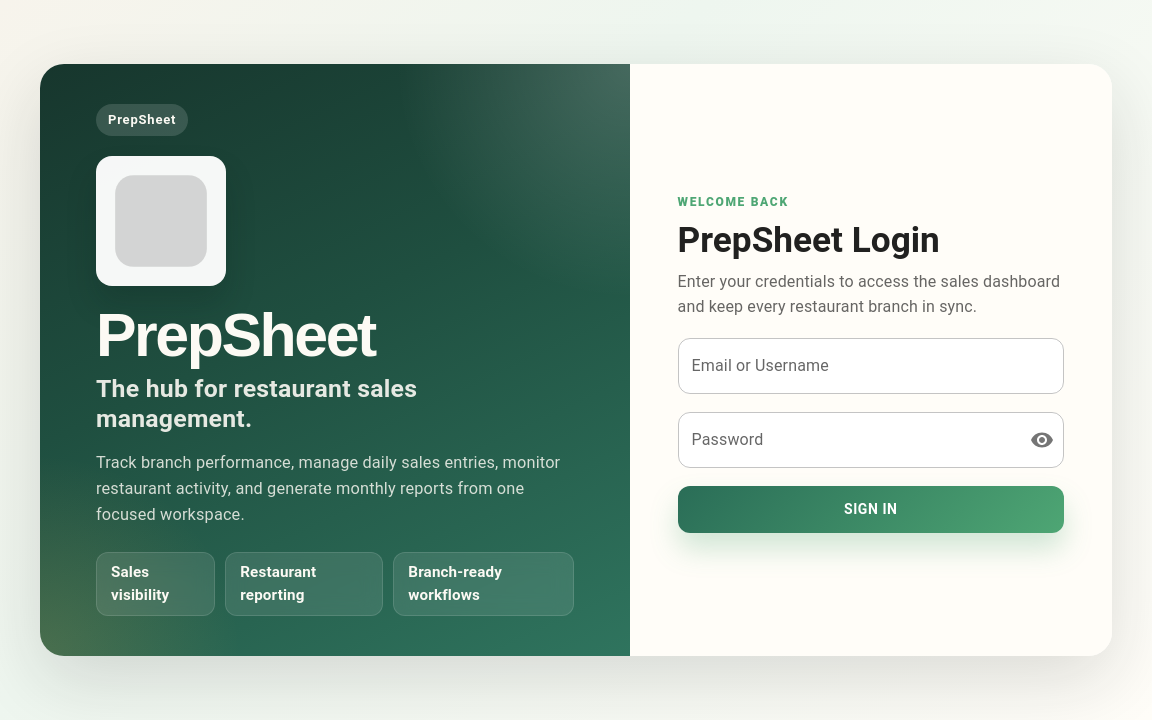
Test: Login Page › should show error if fields are empty
The image size is (1152, 720).
Step 1. Click the submit button → (871, 510), box [678,486,1064,533]
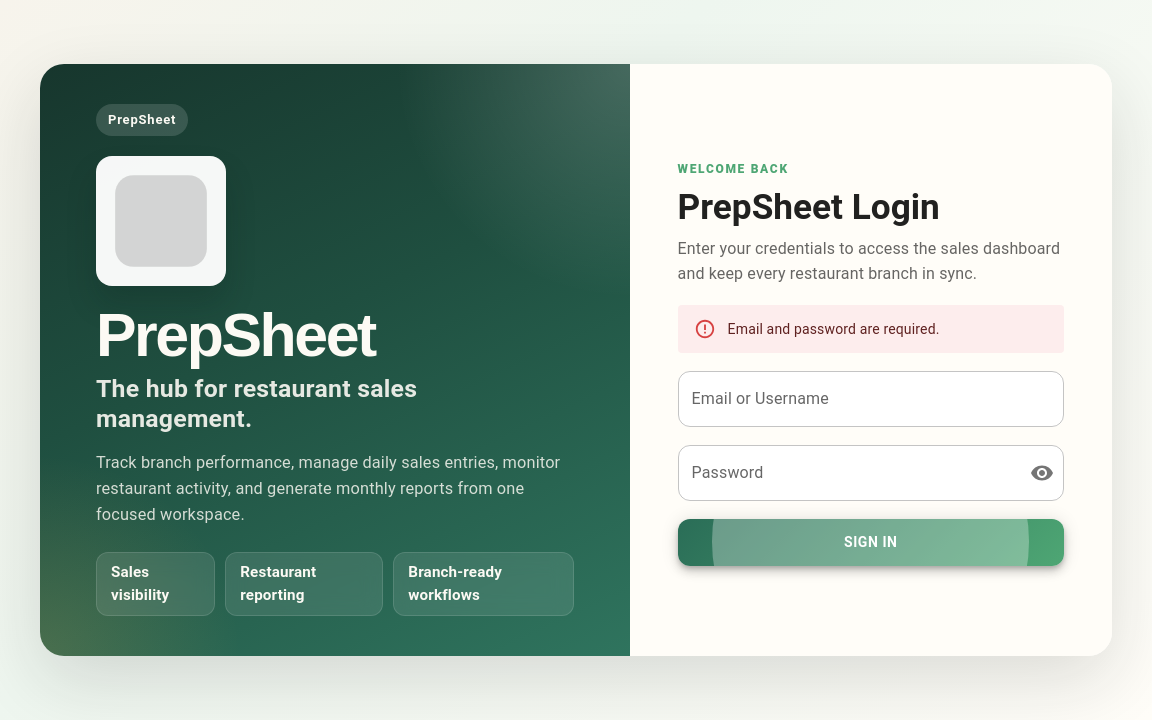
Now the message "Email and password are required." is shown, box [678,305,1064,353]
